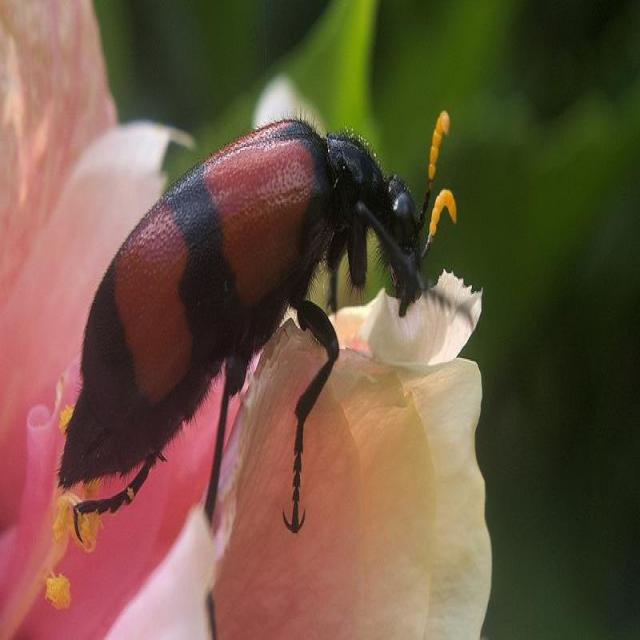BlisterBeetle-Adult-: (52, 116, 454, 548)
